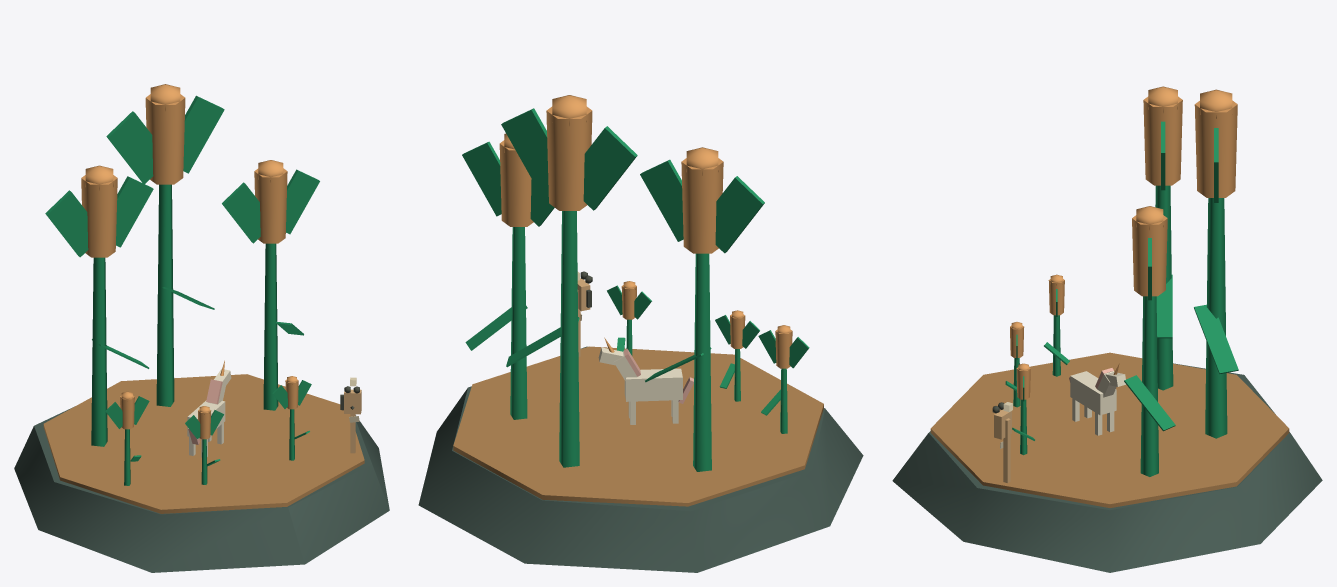
Rendered from listening-field.glb.
3 views of the same model, side by side, from view 1: azimuth 30°, elevation 25°; view 2: azimuth 150°, elevation 25°; view 3: azimuth 270°, elevation 25° (orthographic). The views are drawn at different scales.
Parts seen in each view (by area): view 1: ListeningField, toy_ear_1, toy_ear_0, toy_ear_2, Unicorn, toy_ear_3, Phone, toy_ear_5, toy_ear_4; view 2: ListeningField, toy_ear_1, toy_ear_0, toy_ear_2, Unicorn, toy_ear_3, toy_ear_5, toy_ear_4, Phone; view 3: ListeningField, toy_ear_1, toy_ear_0, toy_ear_2, Unicorn, Phone, toy_ear_3.
Part boxes in pixels (box(x1,y1,x2,y2)): ListeningField: box(14, 184, 389, 572); toy_ear_1: box(106, 84, 224, 184); toy_ear_0: box(45, 165, 153, 257); toy_ear_2: box(222, 160, 319, 243); Unicorn: box(187, 360, 231, 457); toy_ear_3: box(105, 391, 149, 429); Phone: box(340, 377, 361, 453); toy_ear_5: box(272, 376, 311, 409); toy_ear_4: box(185, 406, 223, 439); ListeningField: box(418, 211, 863, 572); toy_ear_1: box(501, 95, 637, 210); toy_ear_0: box(640, 147, 764, 253); toy_ear_2: box(462, 133, 554, 226); Unicorn: box(598, 337, 693, 424); toy_ear_3: box(758, 325, 809, 368); toy_ear_5: box(607, 281, 651, 319); toy_ear_4: box(715, 310, 759, 348); Phone: box(577, 271, 591, 356); ListeningField: box(892, 185, 1322, 572); toy_ear_1: box(1194, 89, 1237, 202); toy_ear_0: box(1143, 86, 1182, 190); toy_ear_2: box(1132, 206, 1167, 300); Unicorn: box(1069, 363, 1125, 435); Phone: box(994, 402, 1012, 483); toy_ear_3: box(1048, 274, 1064, 316).
Bounding box in the file's own units: 12.78 × 15.7 × 12.96.
